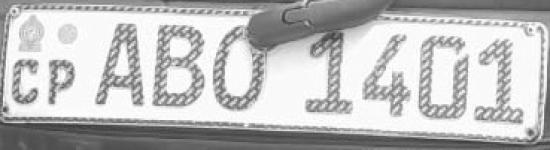0: (416, 28, 472, 126)
1: (470, 33, 527, 129), (296, 30, 358, 116)
4: (360, 27, 414, 122)
A: (90, 19, 148, 112)
B: (148, 19, 208, 114)
C: (11, 56, 40, 108)
O: (212, 23, 267, 113)
P: (44, 54, 78, 110)
